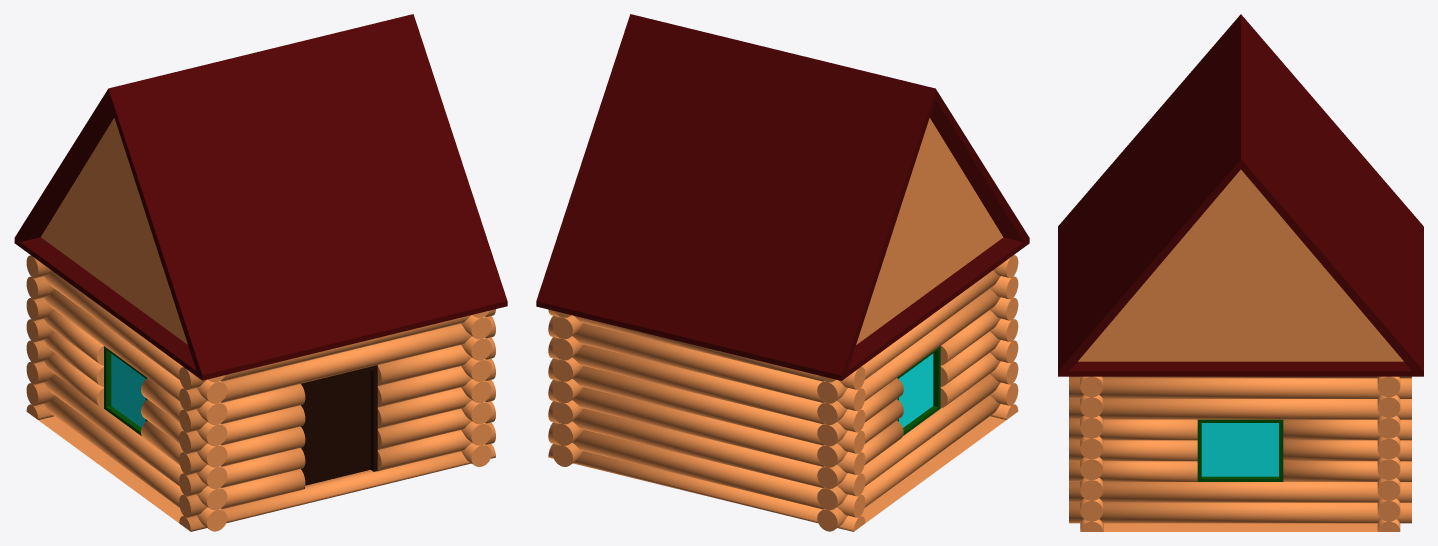
3 views of the same model, side by side, from view 1: azimuth 30°, elevation 25°; view 2: azimuth 150°, elevation 25°; view 3: azimuth 270°, elevation 25° (orthographic). The views are drawn at different scales.
Visible parts, largest first — view 1: крыша_Куб.007_Куб.000, Куб, Цилиндр.021, Цилиндр.003_Цилиндр.046, Цилиндр.041, Цилиндр.042, Цилиндр.034, Цилиндр.033, Куб.002_Куб.003, Плоскость, Цилиндр.012, Цилиндр.013 (+15 smaller); view 2: крыша_Куб.007_Куб.000, Цилиндр.007, Цилиндр.006, Цилиндр.004, Цилиндр.009, Цилиндр.005, Цилиндр.008, Цилиндр_Цилиндр.043, Цилиндр.041, Цилиндр.042, Цилиндр.034, Цилиндр.033 (+9 smaller); view 3: крыша_Куб.007_Куб.000, Цилиндр.032, Цилиндр.023, Цилиндр.024, Цилиндр.031, Куб.001, Плоскость, Цилиндр.025, Цилиндр.026, Цилиндр.030, Цилиндр.029, Цилиндр.028 (+16 smaller).
Boxes of the visible parts, x1,y1,x2,y2 form: крыша_Куб.007_Куб.000: [14, 14, 507, 380]; Куб: [301, 365, 377, 488]; Цилиндр.021: [179, 316, 495, 411]; Цилиндр.003_Цилиндр.046: [179, 444, 495, 531]; Цилиндр.041: [44, 374, 227, 510]; Цилиндр.042: [44, 395, 227, 531]; Цилиндр.034: [44, 289, 227, 424]; Цилиндр.033: [44, 270, 227, 403]; Куб.002_Куб.003: [104, 346, 147, 435]; Плоскость: [38, 416, 370, 522]; Цилиндр.012: [179, 447, 305, 496]; Цилиндр.013: [179, 426, 305, 475]; крыша_Куб.007_Куб.000: [536, 14, 1029, 380]; Цилиндр.007: [548, 358, 865, 453]; Цилиндр.006: [548, 380, 865, 475]; Цилиндр.004: [548, 422, 865, 517]; Цилиндр.009: [548, 316, 865, 411]; Цилиндр.005: [548, 401, 865, 496]; Цилиндр.008: [548, 337, 865, 432]; Цилиндр_Цилиндр.043: [548, 443, 865, 531]; Цилиндр.041: [817, 374, 1000, 510]; Цилиндр.042: [817, 395, 1000, 531]; Цилиндр.034: [817, 289, 1000, 424]; Цилиндр.033: [817, 270, 1000, 403]; крыша_Куб.007_Куб.000: [1058, 14, 1423, 376]; Цилиндр.032: [1069, 502, 1411, 523]; Цилиндр.023: [1069, 378, 1411, 398]; Цилиндр.024: [1069, 399, 1411, 419]; Цилиндр.031: [1069, 482, 1411, 502]; Куб.001: [1197, 419, 1283, 481]; Плоскость: [1103, 523, 1377, 531]; Цилиндр.025: [1069, 419, 1197, 440]; Цилиндр.026: [1069, 440, 1197, 461]; Цилиндр.030: [1283, 419, 1411, 440]; Цилиндр.029: [1283, 440, 1411, 461]; Цилиндр.028: [1283, 461, 1411, 481].
Bounding box in the file's own units: 6 × 7.2 × 6.4.
